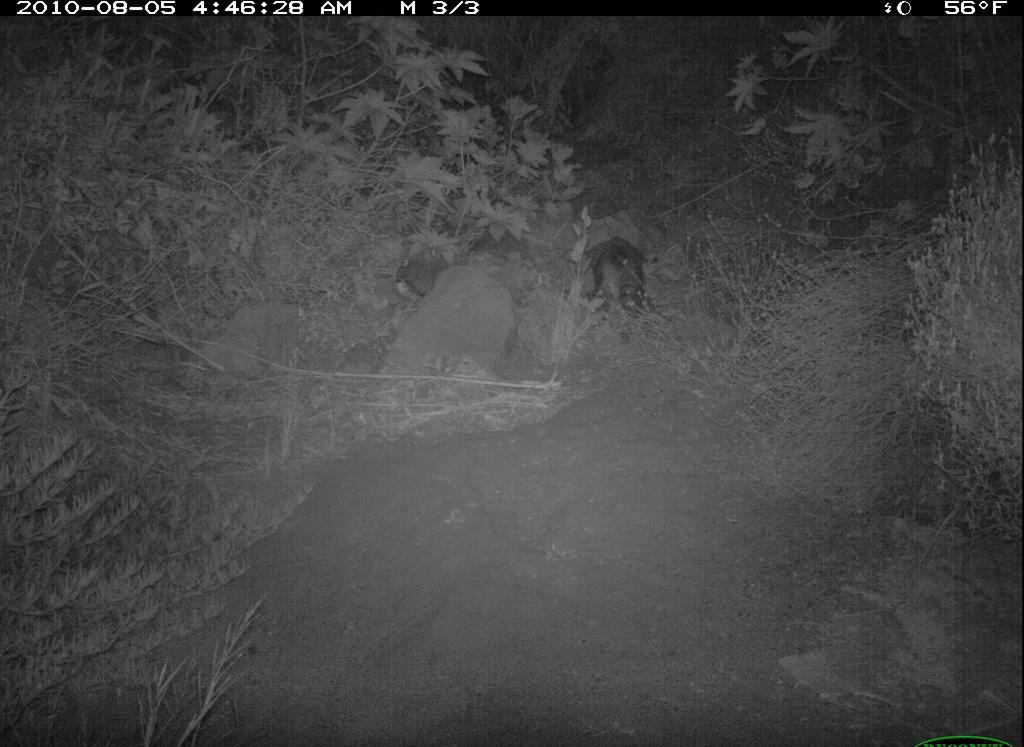raccoon: (579, 233, 660, 347)
